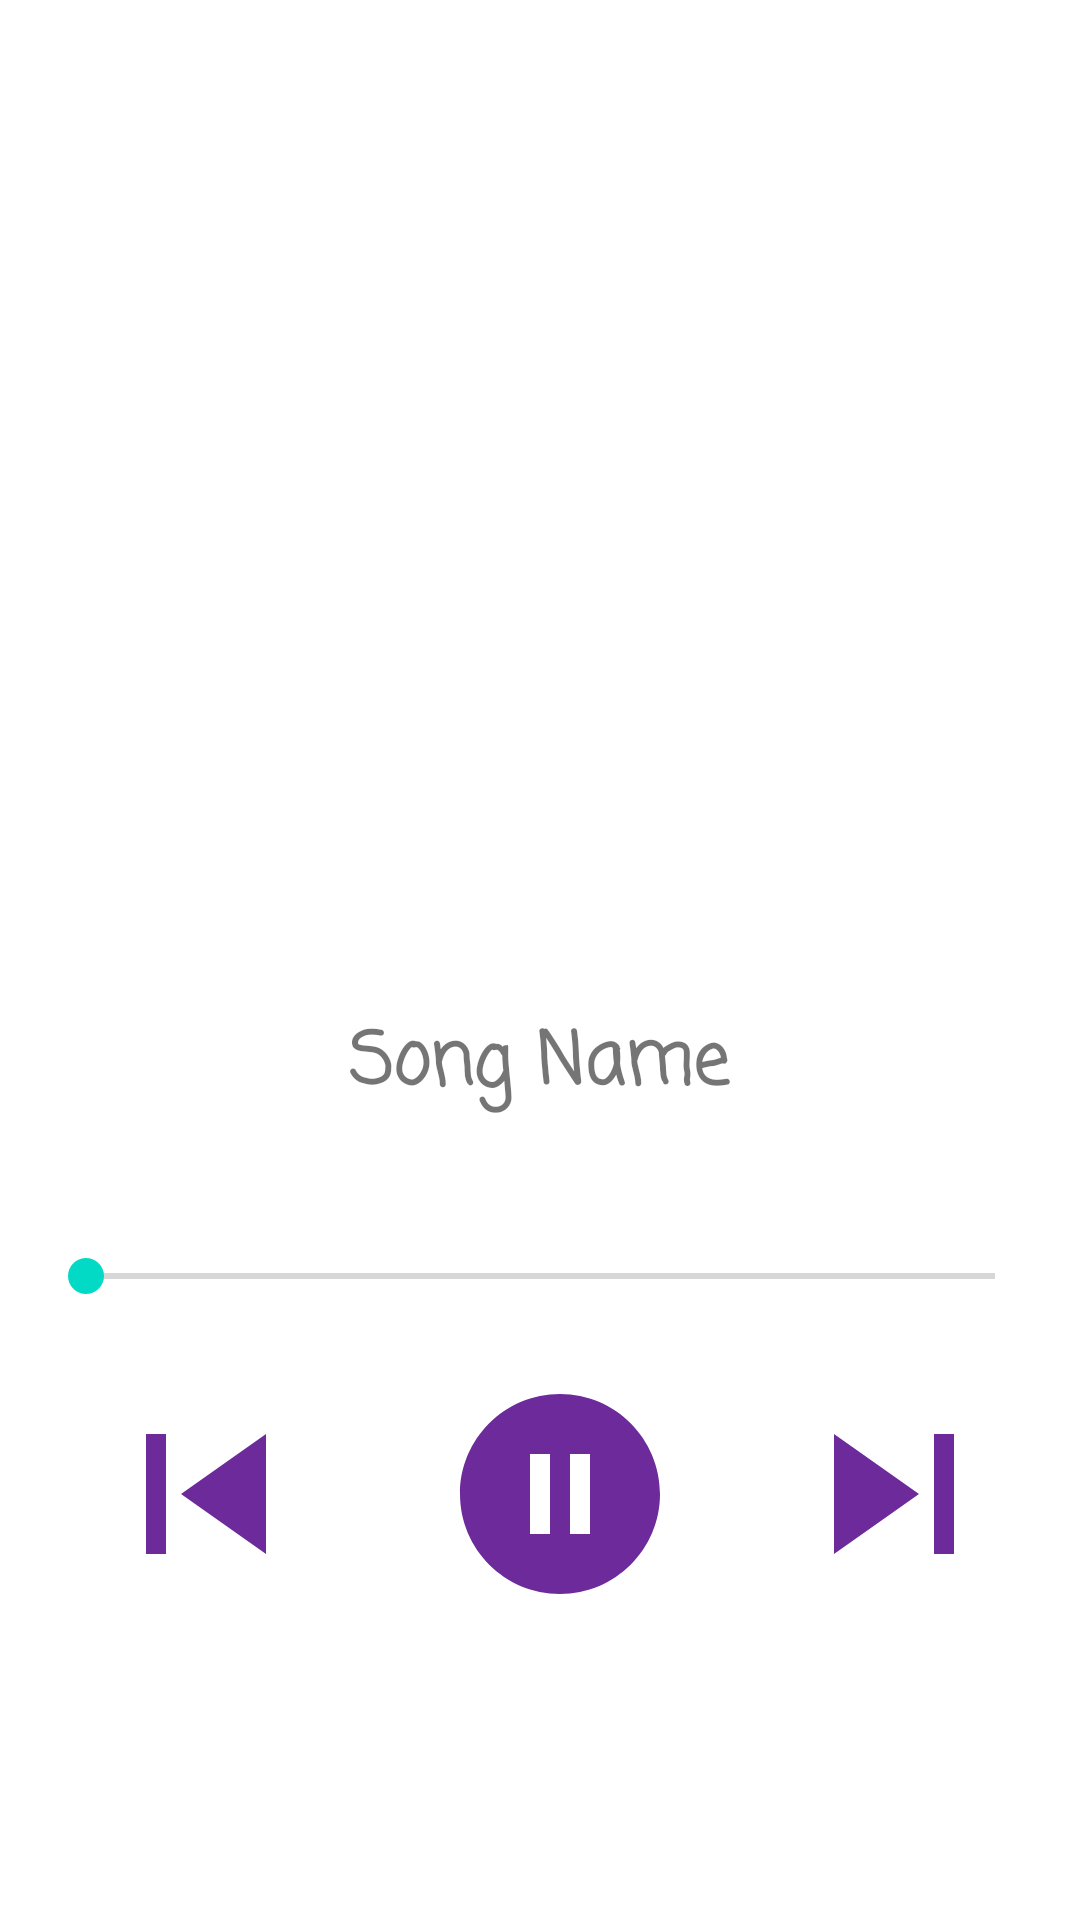

Icons on this 1080x1920 Android screen, each with the point to tap as (x,y):
next: (894,1494)
previous: (206,1494)
